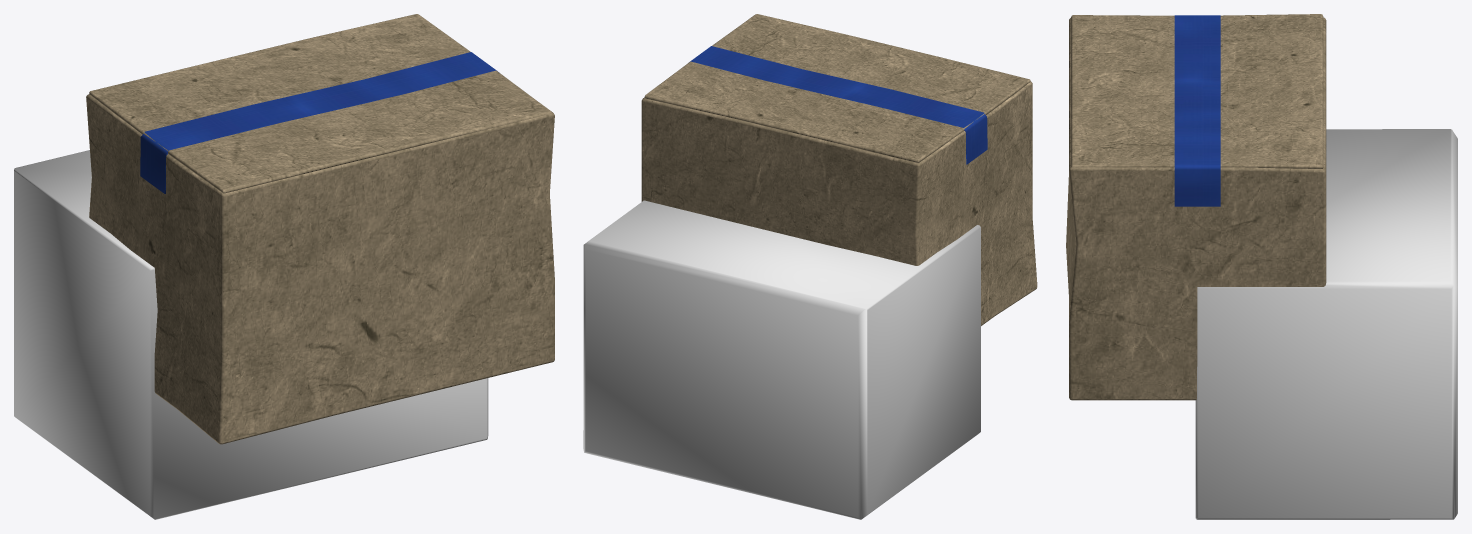
File: SM_Cardboard_01.fbx
3 views of the same model, side by side, from view 1: azimuth 30°, elevation 25°; view 2: azimuth 150°, elevation 25°; view 3: azimuth 270°, elevation 25° (orthographic). The views are drawn at different scales.
Parts seen in each view (by area): view 1: SM_Cardboard_01, SM_Cardboard_01_ConvexHulls; view 2: SM_Cardboard_01_ConvexHulls, SM_Cardboard_01; view 3: SM_Cardboard_01, SM_Cardboard_01_ConvexHulls.
Part boxes in pixels (box(x1,y1,x2,y2)): SM_Cardboard_01: box(86, 14, 554, 444); SM_Cardboard_01_ConvexHulls: box(14, 150, 488, 519); SM_Cardboard_01_ConvexHulls: box(583, 200, 980, 519); SM_Cardboard_01: box(641, 14, 1037, 325); SM_Cardboard_01: box(1066, 14, 1326, 400); SM_Cardboard_01_ConvexHulls: box(1195, 129, 1457, 519).
Bounding box in the file's own units: 0.7125 × 0.7619 × 0.7619.
